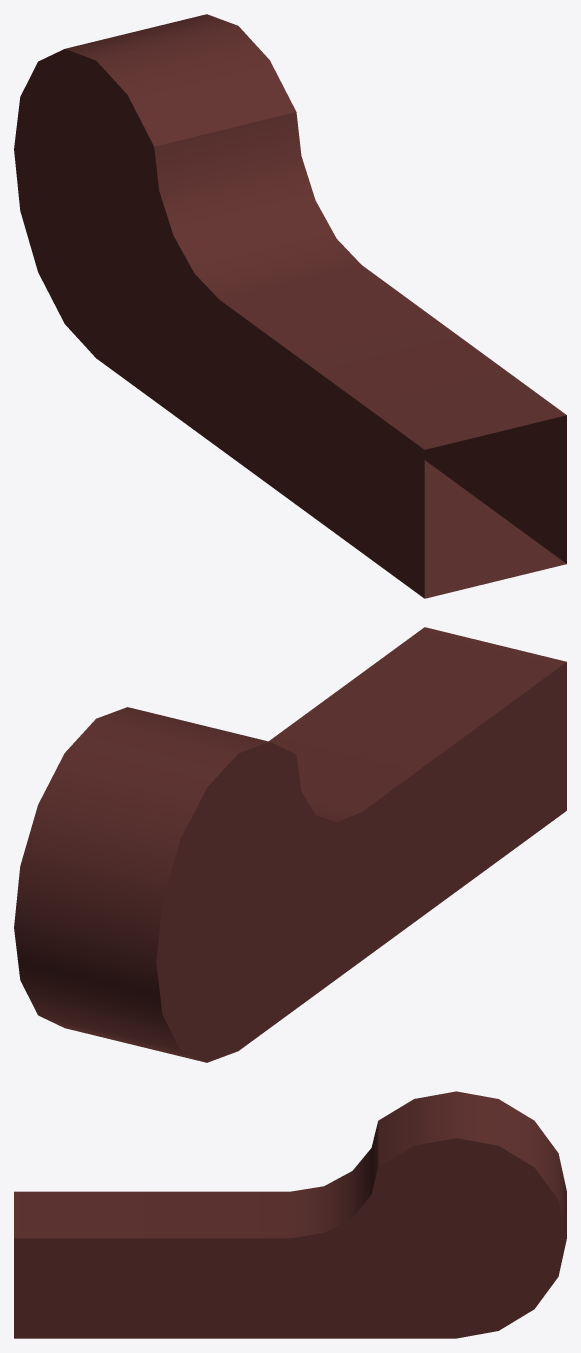
The model's file is PlankEnd.fbx.
3 views of the same model, one above another, from view 1: azimuth 30°, elevation 25°; view 2: azimuth 150°, elevation 25°; view 3: azimuth 270°, elevation 25° (orthographic). The views are drawn at different scales.
Visible parts, largest first — view 1: PlankEnd; view 2: PlankEnd; view 3: PlankEnd.
Boxes of the visible parts, x1,y1,x2,y2 form: PlankEnd: (14, 14, 566, 598); PlankEnd: (14, 627, 566, 1062); PlankEnd: (14, 1091, 566, 1338).
Size of the model in its own units: 0.4 by 2 by 0.8.
